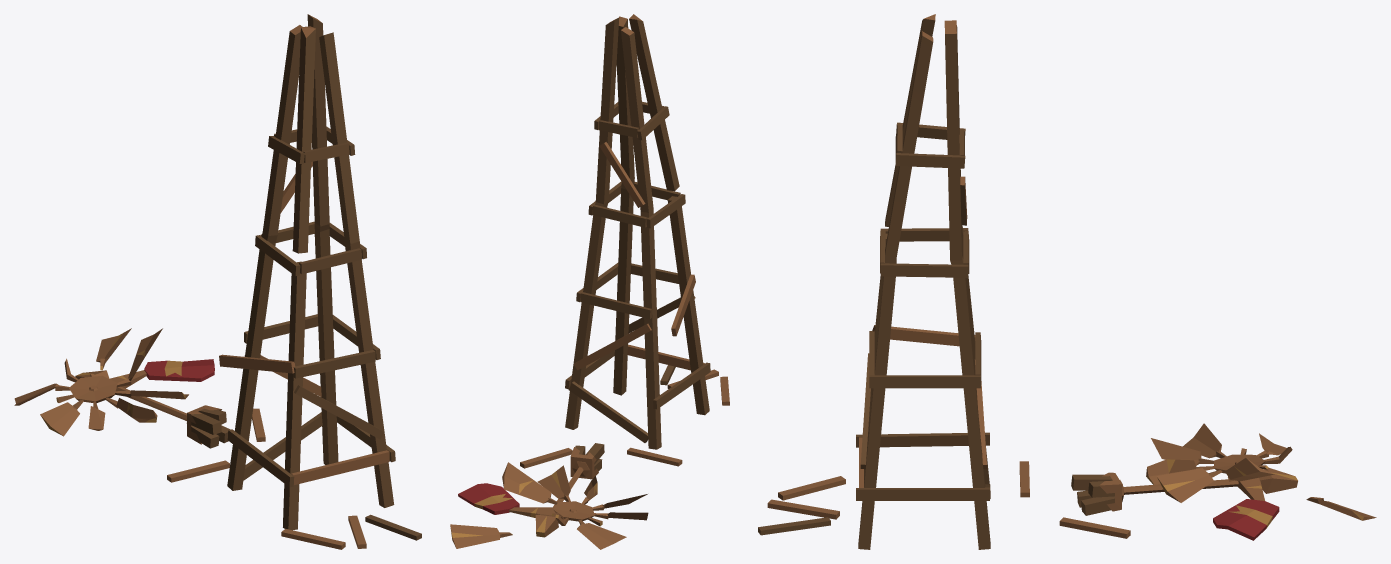
The model's file is apocalypse_windmill-western-apocalypse-b.fbx.
3 renders of one model, left to right at view 1: azimuth 30°, elevation 25°; view 2: azimuth 150°, elevation 25°; view 3: azimuth 270°, elevation 25°, orthographic. The views are drawn at different scales.
Visible parts, largest first — view 1: apocalypse_windmill_western_apocalypse_b; view 2: apocalypse_windmill_western_apocalypse_b; view 3: apocalypse_windmill_western_apocalypse_b.
Part boxes in pixels (x1=…): apocalypse_windmill_western_apocalypse_b: x1=14, y1=14, x2=421, y2=549; apocalypse_windmill_western_apocalypse_b: x1=450, y1=14, x2=729, y2=549; apocalypse_windmill_western_apocalypse_b: x1=758, y1=14, x2=1376, y2=549.
Size of the model in its own units: 79.75 by 181 by 200.
